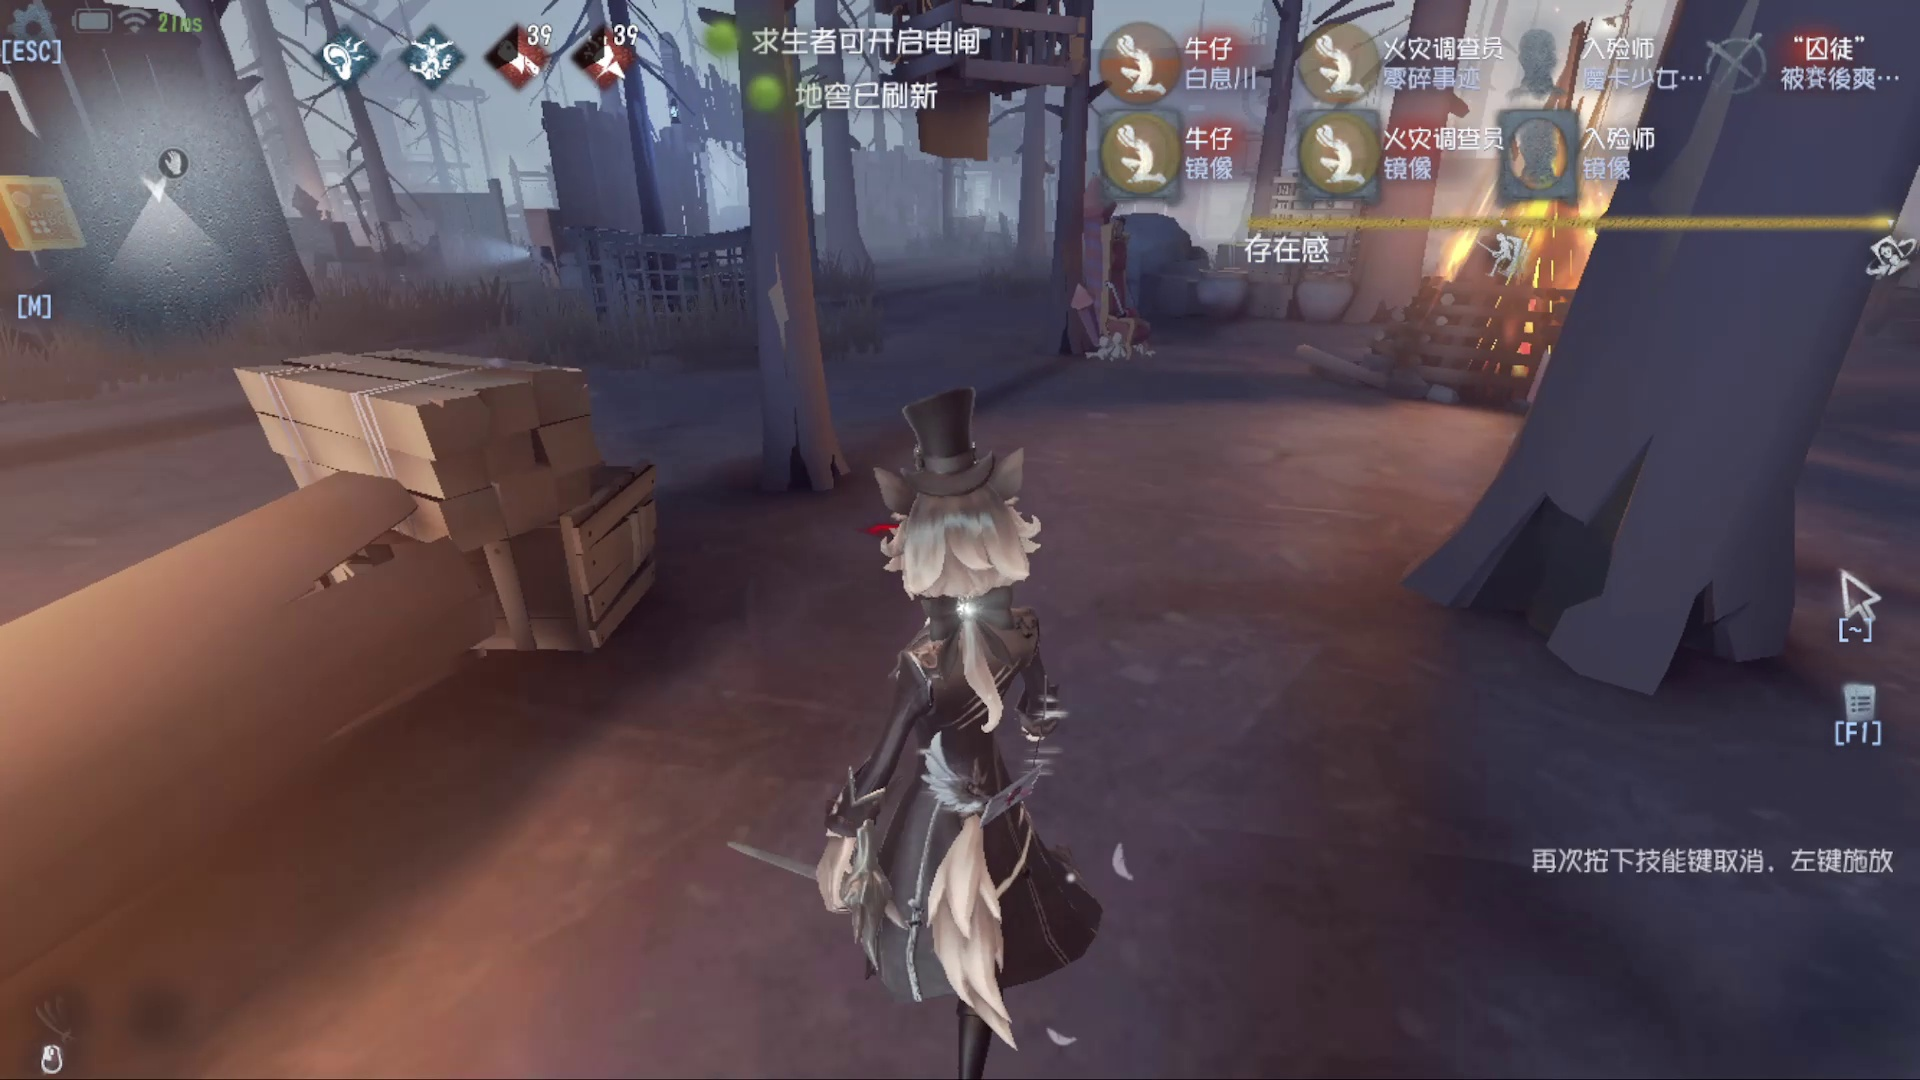狂欢之椅: (1059, 164, 1153, 382)
